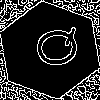Q: (25, 25, 82, 71)
